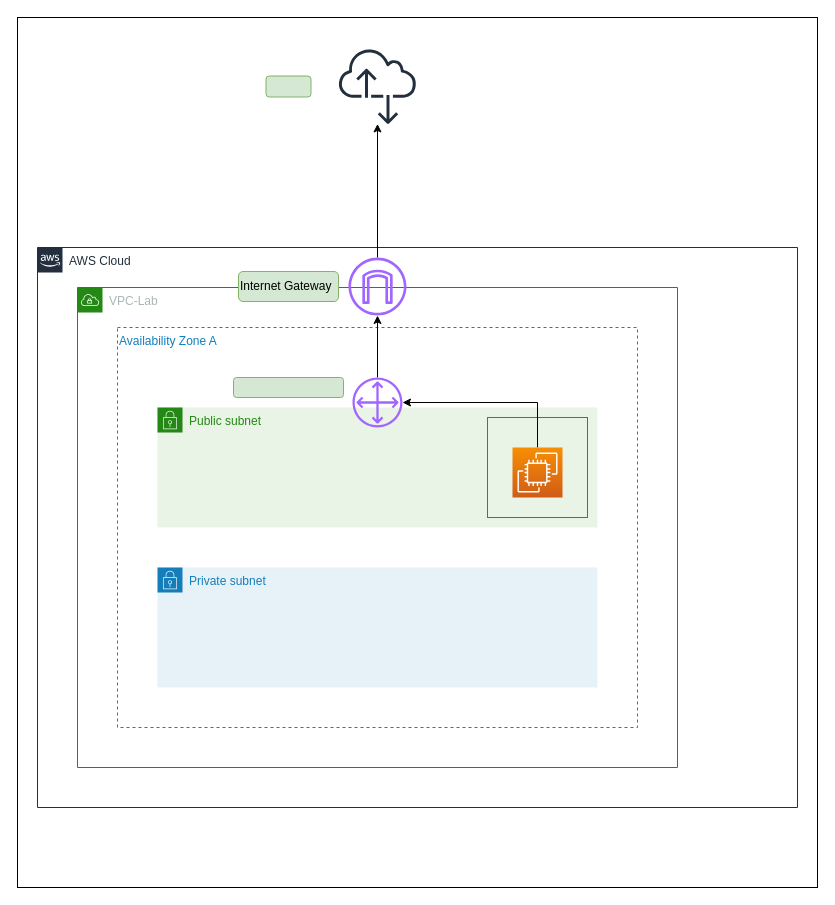
Image size: 835x905. Some labels were removed from this diagram. The box of each missing label's shape, as (x1, y1, x2, y2) in pixels:
Internet: (265, 75, 311, 97)
Public Route Table: (232, 376, 344, 398)
Security group: (486, 416, 588, 518)
